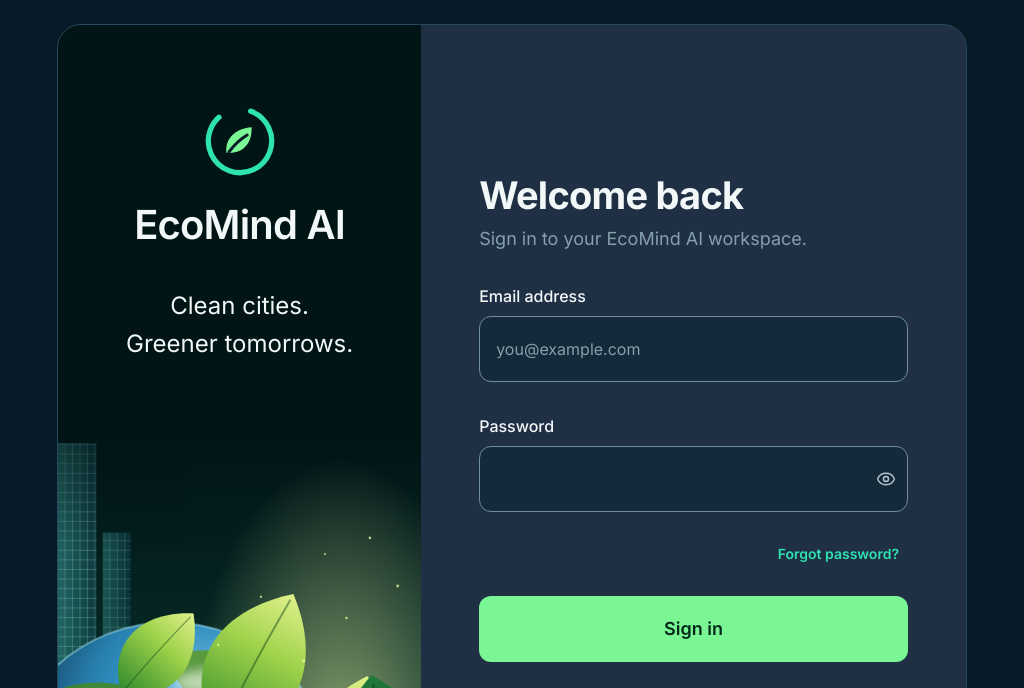
Scenario: sign-in › tells the user how long to wait when rate limited
Type "asha@example.org" into the field labelled "Email address" at (694, 349), box 479,316 -> 908,382
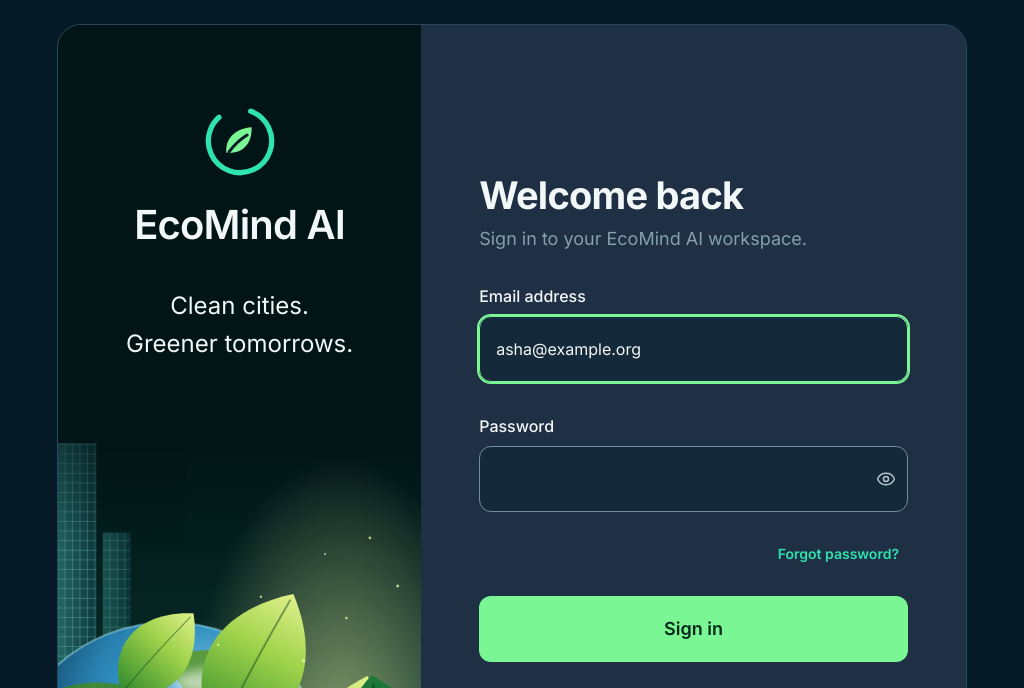
Type "a long passphrase 1" into the password field labelled "Password" at (694, 479), box 479,446 -> 908,512
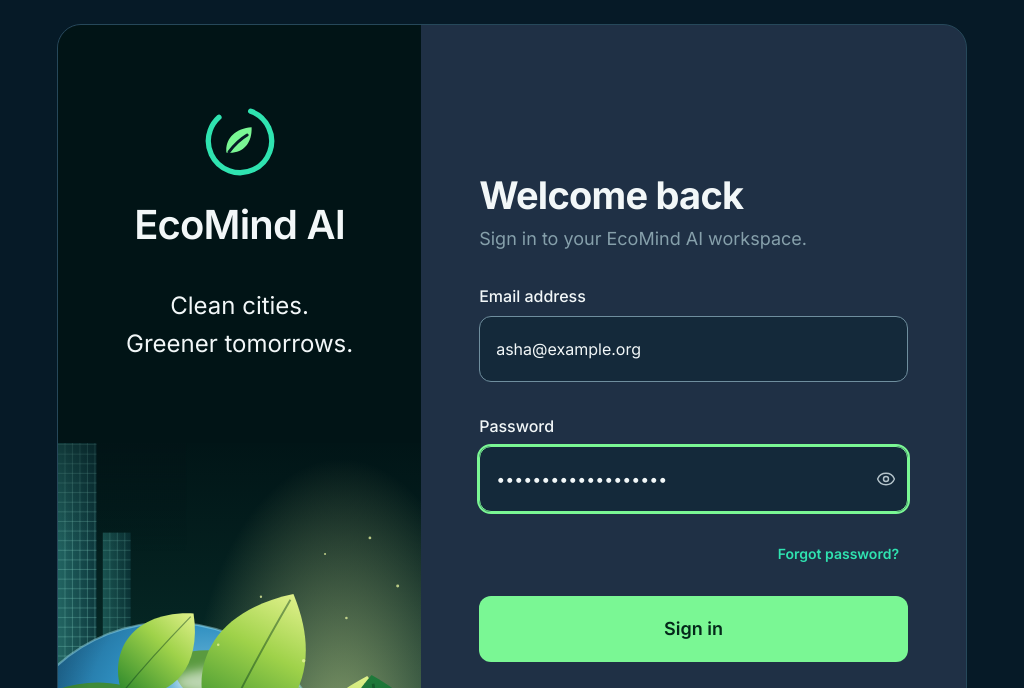
Click the button "Sign in" at (694, 629), box 479,596 -> 908,662
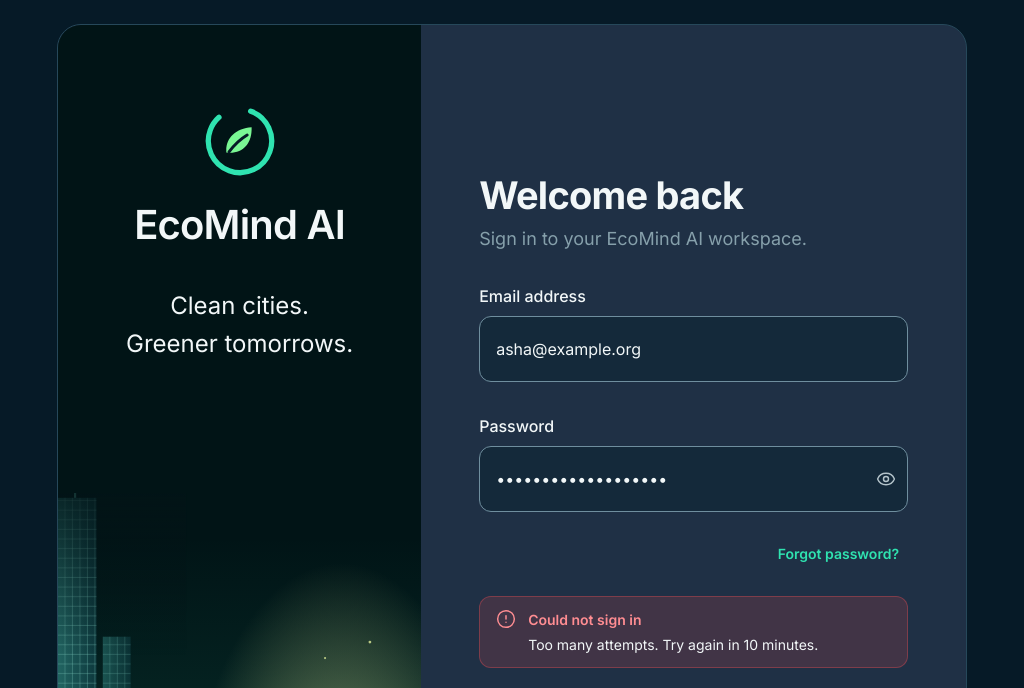
Result: the message shows "Too many attempts. Try again in 10 minutes." at 528,636 -> 818,653
